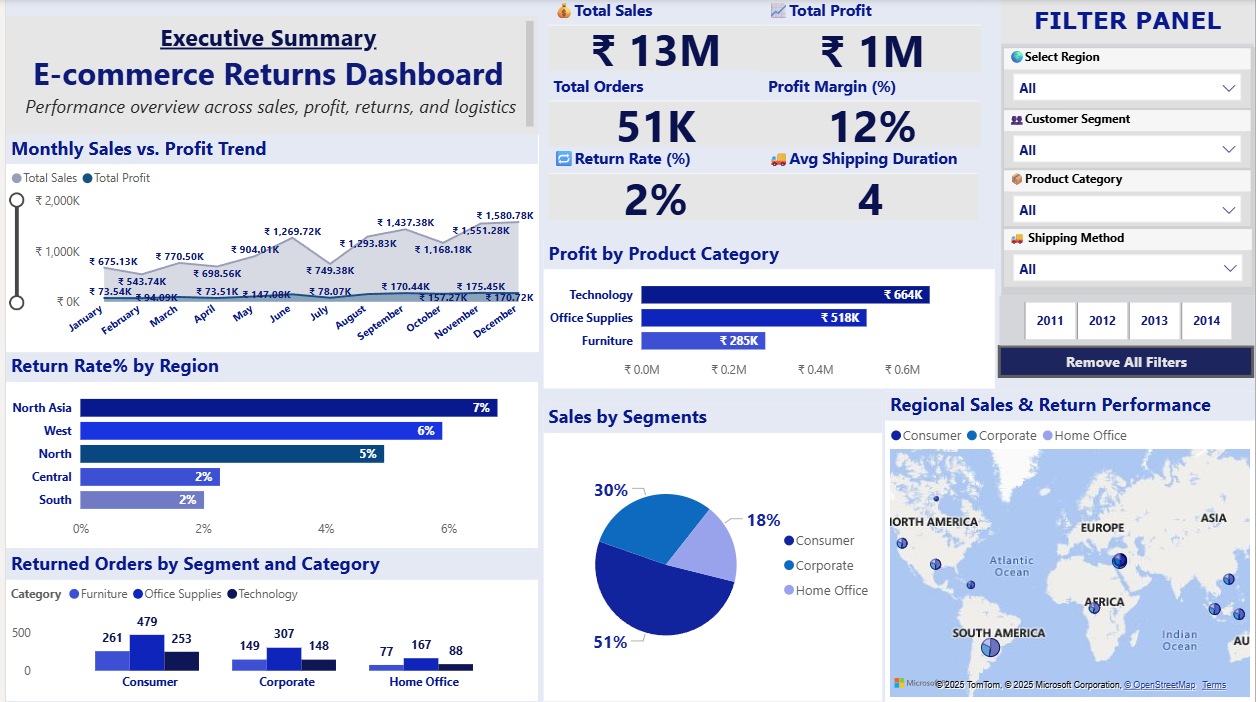

The dashboard page shown, as its layout file describes it:
{"tool":"powerbi","page":{"name":"Page 1","canvas":[1280,720],"ordinal":0},"visuals":[{"type":"shape","box":[1020.1,48.9,259.9,254.7],"z":0,"group":"g1"},{"type":"card","title":"🔁Return Rate (%)","fields":{"Values":["Orders.Return Rate (%)"]},"box":[555,151.7,220,75],"z":0},{"type":"card","title":"💰Total Sales","fields":{"Values":["Orders.Total Sales"]},"box":[555,0,220,73.3],"z":1000},{"type":"card","title":"📈Total Profit","fields":{"Values":["Orders.Total Profit"]},"box":[775,0,223.3,75],"z":2000},{"type":"card","title":"🚚Avg Shipping Duration","fields":{"Values":["Orders.Avg Shipping Duration"]},"box":[775,151.7,220,75],"z":3000},{"type":"lineChart","title":"Monthly Sales vs. Profit Trend","fields":{"Y":["Orders.Total Sales","Orders.Total Profit"],"Category":["Orders.OrderDate.Variation.Date Hierarchy.Month"]},"box":[0,138.8,545.2,221.8],"z":4000},{"type":"clusteredBarChart","title":"Profit by  Product Category","fields":{"Category":["Orders.Category"],"Y":["Orders.Total Profit"]},"box":[550.3,247.2,462.3,152.4],"z":5000},{"type":"textbox","box":[0,16.9,545.2,121.9],"z":6000},{"type":"slicer","title":"🌍Select Region","fields":{"Values":["Orders.Region"]},"box":[1023,50.6,252.7,61.2],"z":7000,"group":"g1"},{"type":"clusteredBarChart","fields":{"Category":["Orders.Region"],"Y":["Orders.Return Rate (%)"]},"box":[0,362.4,545.2,199.8],"z":7000},{"type":"slicer","title":"👥Customer Segment","fields":{"Values":["Orders.Segment"]},"box":[1023,114,252.7,58.9],"z":8000,"group":"g1"},{"type":"group","id":"g1","title":"Group 1","box":[1019.3,1.7,260.7,301.9],"z":9000,"group":"g2"},{"type":"card","title":"Profit Margin (%)","fields":{"Values":["Orders.Profit Margin %"]},"box":[775,78.3,223.3,73.3],"z":9000},{"type":"slicer","title":"📦Product Category","fields":{"Values":["Orders.Category"]},"box":[1023,175.2,252.7,56.7],"z":9000,"group":"g1"},{"type":"card","title":"Total Orders","fields":{"Values":["Orders.Total Orders"]},"box":[555,78.3,220,73.3],"z":10000},{"type":"actionButton","box":[1016.7,355.1,262.5,33.5],"z":10000,"group":"g2"},{"type":"map","title":"Regional Sales & Return Performance","fields":{"Category":["Orders.Region"],"Series":["Orders.Segment"],"Size":["Orders.Total Sales"]},"box":[900.8,401.3,379.3,318.3],"z":11000},{"type":"group","id":"g2","title":"Group 2","box":[1016.7,1.7,263.2,387],"z":12000,"group":"g3"},{"type":"slicer","title":"🚚 Shipping Method","fields":{"Values":["Orders.Ship Mode"]},"box":[1021.8,235.2,253.9,58.9],"z":13000,"group":"g1"},{"type":"pieChart","title":"Sales by Segments","fields":{"Category":["Orders.Segment"],"Y":["Orders.Total Sales"]},"box":[550.3,414.8,347.1,304.8],"z":13000},{"type":"group","id":"g3","title":"Group 3","box":[1016.7,1.7,263.3,387],"z":14000},{"type":"textbox","box":[1019.3,1.7,259.6,44],"z":14000,"group":"g1"},{"type":"clusteredColumnChart","fields":{"Category":["Orders.Segment"],"Y":["Orders.Returned Orders"],"Series":["Orders.Category"]},"box":[0,565.5,545.2,154.1],"z":15000},{"type":"slicer","fields":{"Values":["Orders.Year"]},"box":[1018.4,303.4,261.7,51.7],"z":15001,"group":"g3"}]}

Visuals, with their boxes in screenshot pixels (x1, y1, x2, y2), scaled from the page's 1280x720 canvas onto the 1256x702 screenshot:
shape: bbox=(1001, 48, 1255, 296)
"🔁Return Rate (%)" card: bbox=(545, 148, 760, 221)
"💰Total Sales" card: bbox=(545, 0, 760, 71)
"📈Total Profit" card: bbox=(760, 0, 980, 73)
"🚚Avg Shipping Duration" card: bbox=(760, 148, 976, 221)
"Monthly Sales vs. Profit Trend" lineChart: bbox=(0, 135, 535, 352)
"Profit by  Product Category" clusteredBarChart: bbox=(540, 241, 994, 390)
textbox: bbox=(0, 16, 535, 135)
"🌍Select Region" slicer: bbox=(1004, 49, 1252, 109)
clusteredBarChart - Orders.Region x Orders.Return Rate (%): bbox=(0, 353, 535, 548)
"👥Customer Segment" slicer: bbox=(1004, 111, 1252, 169)
"Group 1" group: bbox=(1000, 2, 1255, 296)
"Profit Margin (%)" card: bbox=(760, 76, 980, 148)
"📦Product Category" slicer: bbox=(1004, 171, 1252, 226)
"Total Orders" card: bbox=(545, 76, 760, 148)
actionButton: bbox=(998, 346, 1255, 379)
"Regional Sales & Return Performance" map: bbox=(884, 391, 1255, 701)
"Group 2" group: bbox=(998, 2, 1255, 379)
"🚚 Shipping Method" slicer: bbox=(1003, 229, 1252, 287)
"Sales by Segments" pieChart: bbox=(540, 404, 881, 701)
"Group 3" group: bbox=(998, 2, 1255, 379)
textbox: bbox=(1000, 2, 1255, 45)
clusteredColumnChart - Orders.Segment x Orders.Returned Orders: bbox=(0, 551, 535, 701)
slicer - Orders.Year: bbox=(999, 296, 1255, 346)
